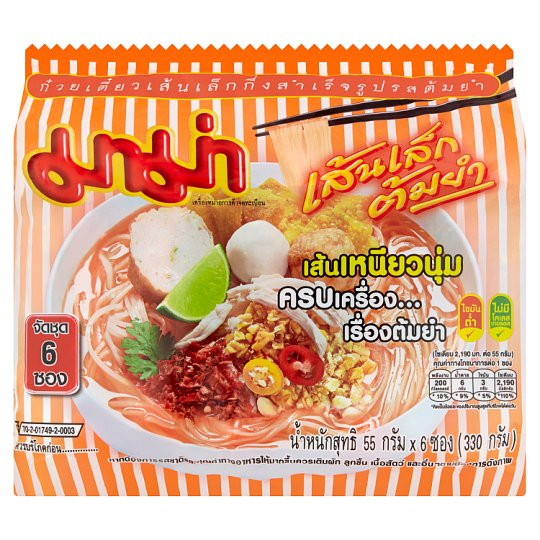Snack: (8, 38, 533, 505)
